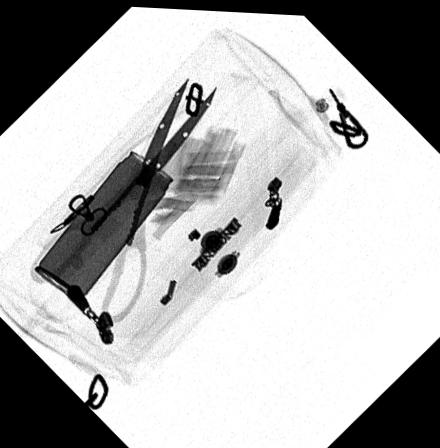Scissors: (27, 72, 224, 329)
